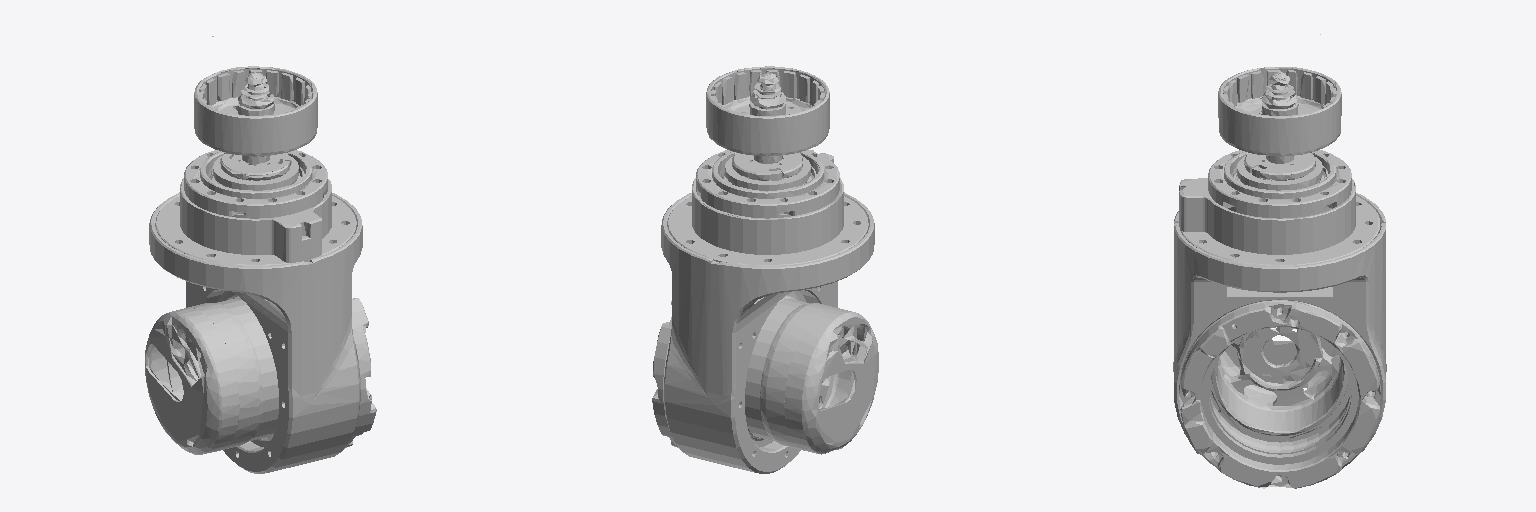
File: right_upper_arm_pitch_link.obj
3 renders of one model, left to right at view 1: azimuth 30°, elevation 25°; view 2: azimuth 150°, elevation 25°; view 3: azimuth 270°, elevation 25°, orthographic.
Visible parts, largest first — view 1: right_upper_arm_pitch_link; view 2: right_upper_arm_pitch_link; view 3: right_upper_arm_pitch_link.
Part boxes in pixels (left/top/right/bottom): right_upper_arm_pitch_link: left=145, top=36, right=376, bottom=473; right_upper_arm_pitch_link: left=652, top=66, right=878, bottom=473; right_upper_arm_pitch_link: left=1173, top=34, right=1386, bottom=488.
Bounding box in the file's own units: 0.074 × 0.1586 × 0.074.